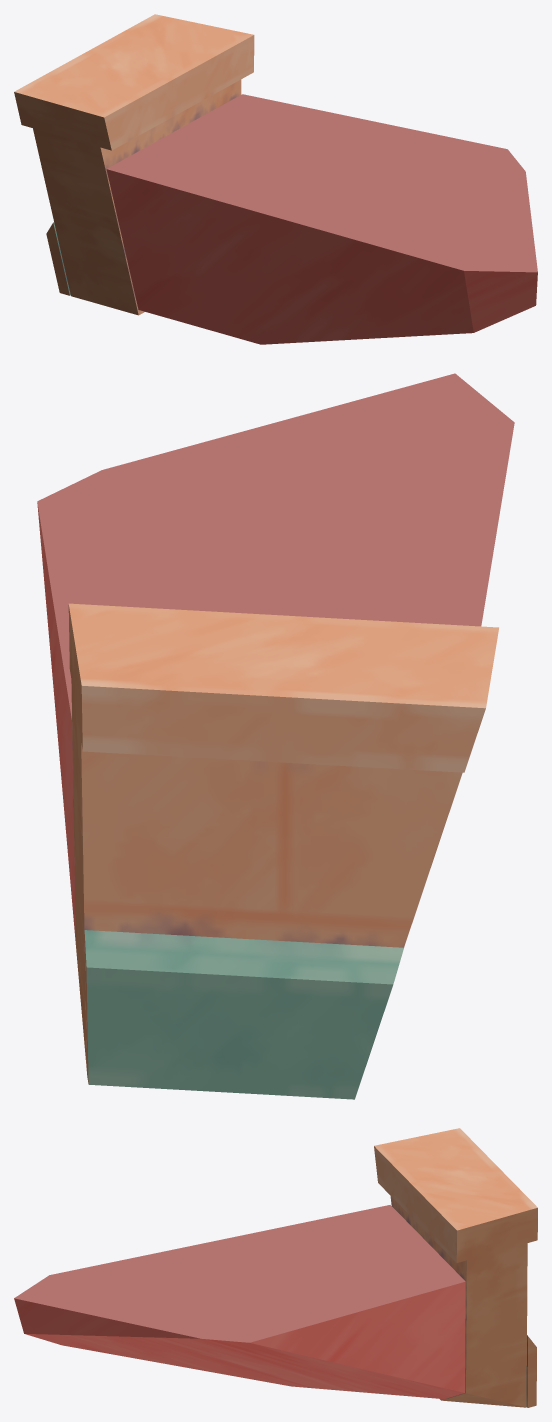
Rendered from vat_s00.fbx.
3 renders of one model, top to bottom at view 1: azimuth 30°, elevation 25°; view 2: azimuth 150°, elevation 25°; view 3: azimuth 270°, elevation 25°, orthographic. The views are drawn at different scales.
Visible parts, largest first — view 1: vat_s00; view 2: vat_s00; view 3: vat_s00.
Boxes of the visible parts, x1,y1,x2,y2 form: vat_s00: (14,14,537,344); vat_s00: (37,373,514,1099); vat_s00: (14,1128,537,1407).
Bounding box in the file's own units: 2.94 × 1.7 × 4.05.
